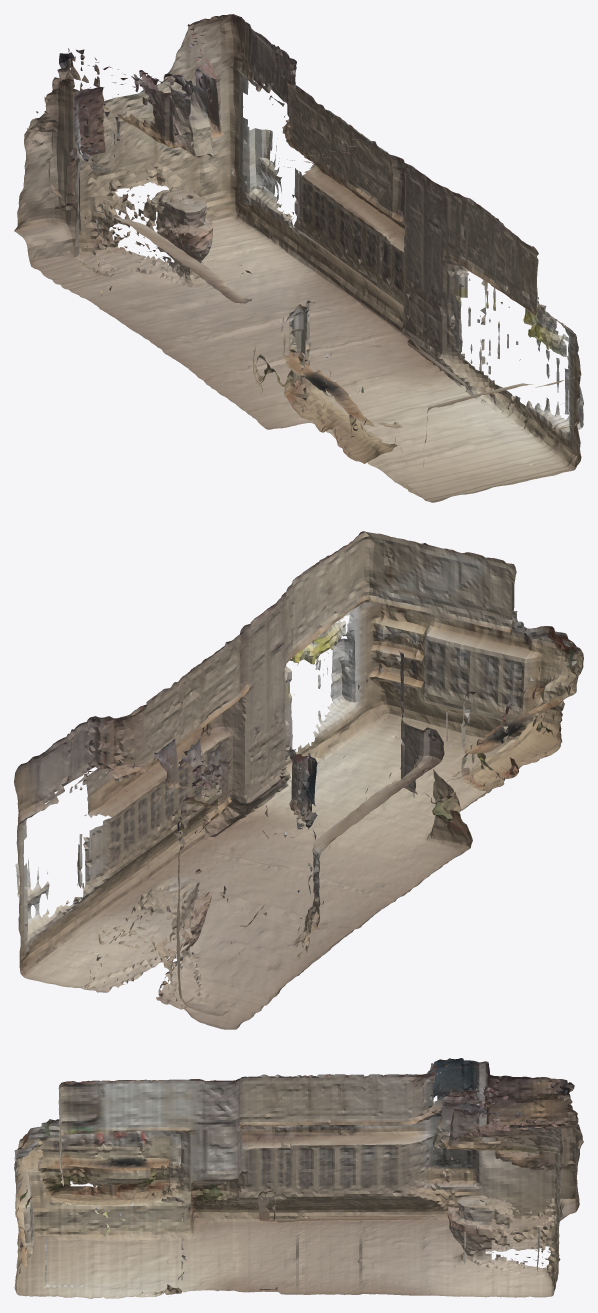
The model's file is warm_traditional_kitchen_interior_collider.glb.
The picture shows the model from 3 angles, top to bottom: view 1: azimuth 30°, elevation 25°; view 2: azimuth 150°, elevation 25°; view 3: azimuth 270°, elevation 25°; orthographic projection. The views are drawn at different scales.
Parts seen in each view (by area): view 1: world; view 2: world; view 3: world.
Part boxes in pixels (bbox=[...]): world: bbox=[14, 14, 583, 502]; world: bbox=[14, 531, 583, 1029]; world: bbox=[14, 1058, 583, 1298].
Bounding box in the file's own units: 2.61 × 2.2 × 6.99.
